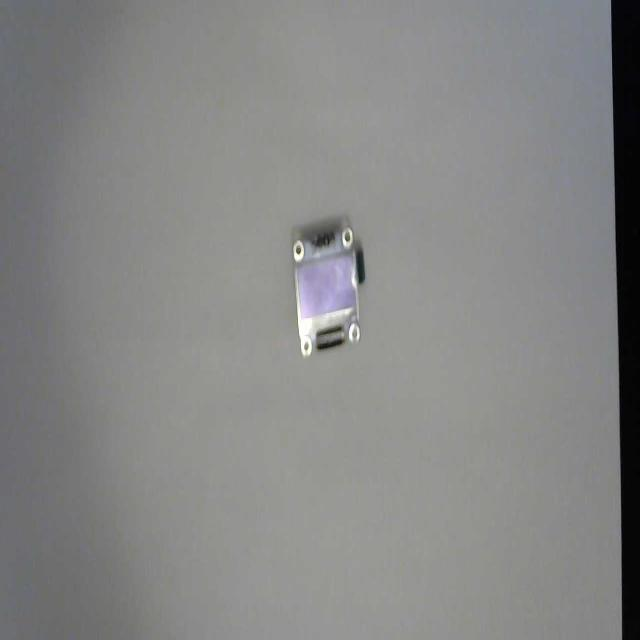oled: (290, 219, 368, 367)
